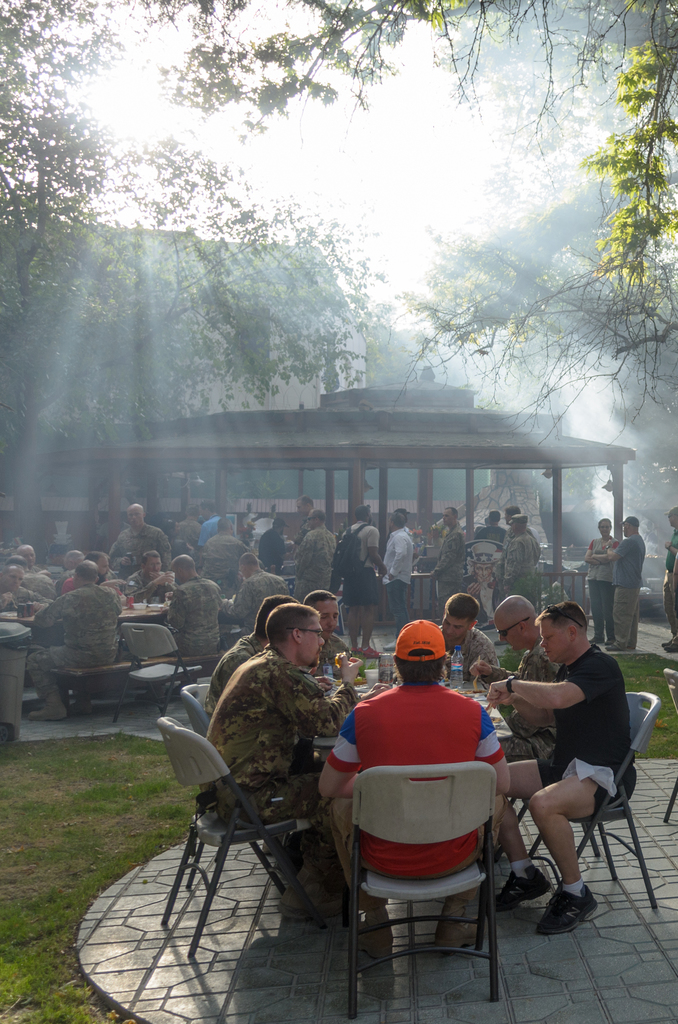Chair: (148, 709, 324, 961), (342, 762, 505, 1017), (517, 686, 670, 917), (102, 620, 210, 711), (172, 672, 214, 889)
